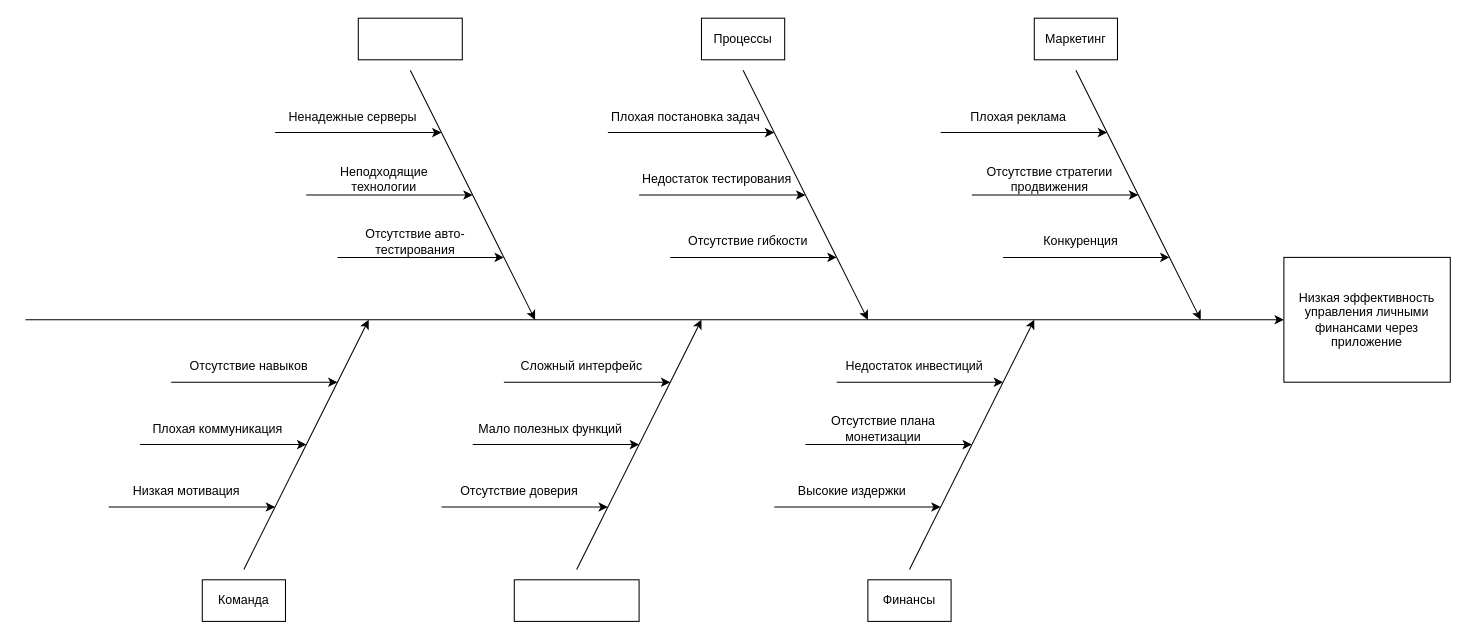
The diagram is 1468 pixels wide and 640 high, and some of its shapes have lost their labels. The centre of each missing label's shape, as x and y in pixels:
"Пользователи" belongs at point 576,600.
"Технологии" belongs at point 409,38.
